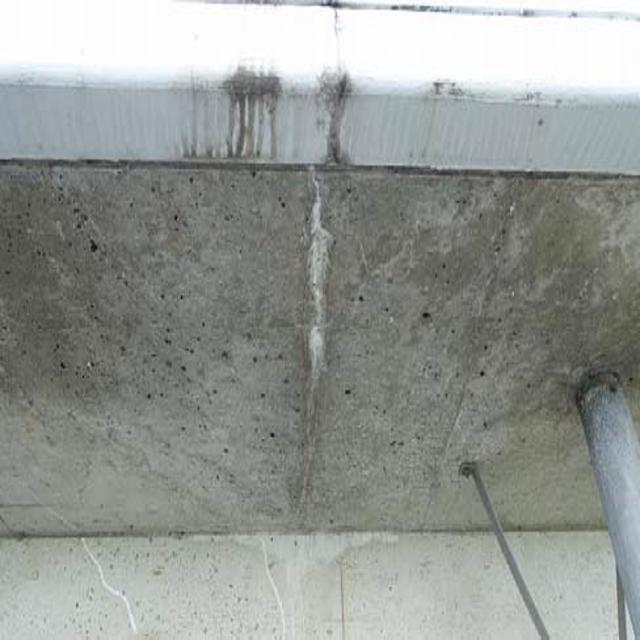freelime: (290, 176, 333, 403)
